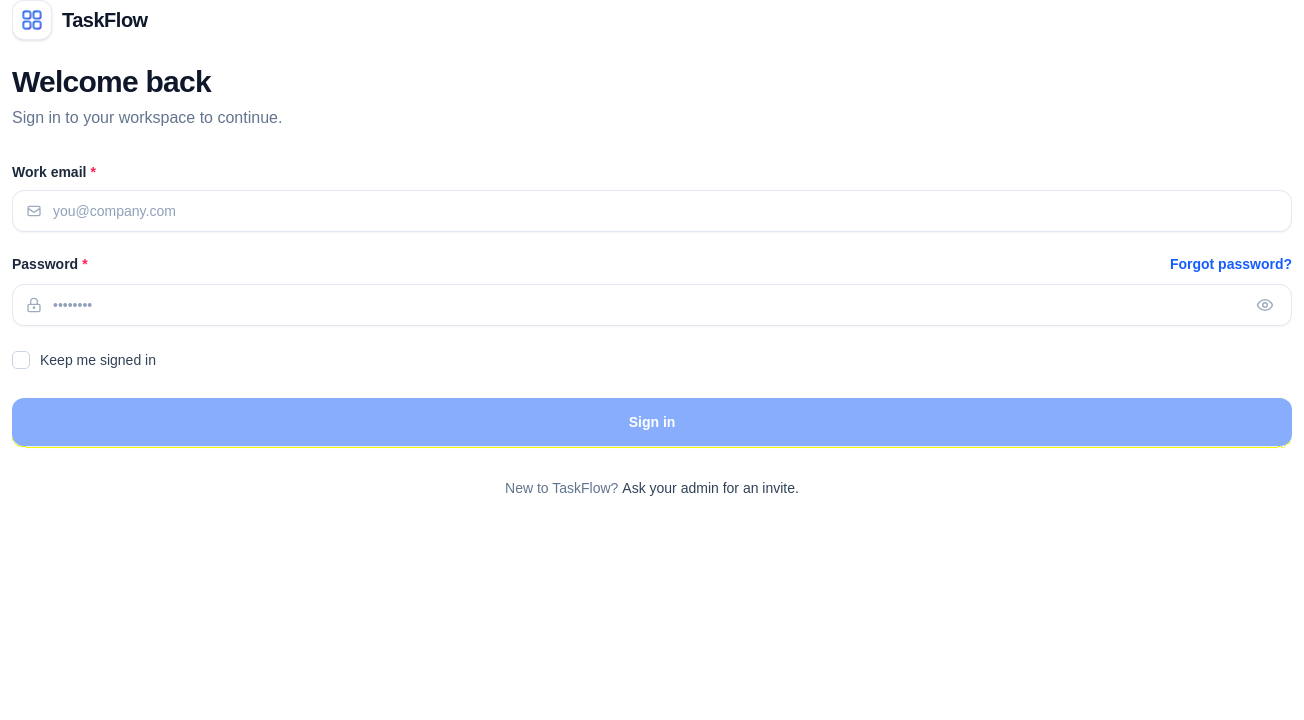
Test: LoginForm Component › shows the default error message when signIn rejects with a non-Error value
Type "user@taskflow.com" into the field with placeholder "you@company.com" at (652, 211), box [12,190,1292,232]
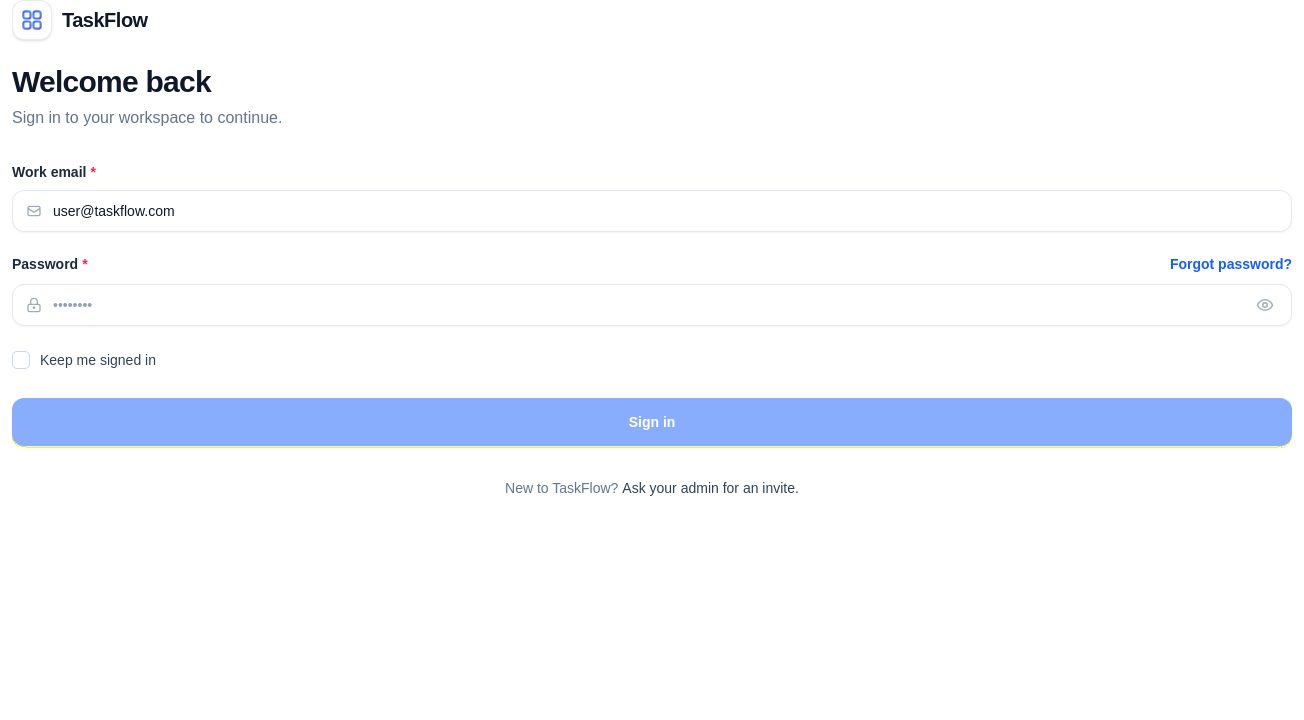
Type "Password123!" into the password field with placeholder "••••••••" at (652, 305), box [12,284,1292,326]
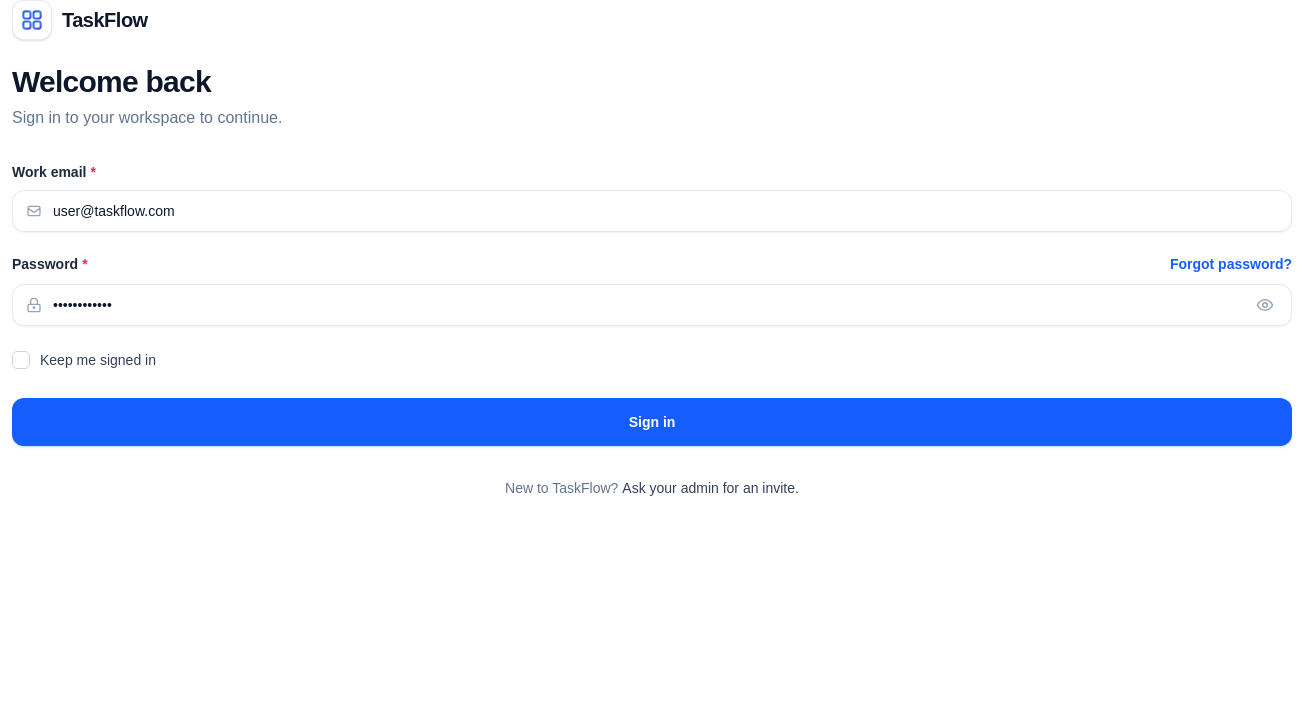
Result: the button "Sign in" is enabled
Click the button "Sign in" at (652, 422), box [12,398,1292,446]
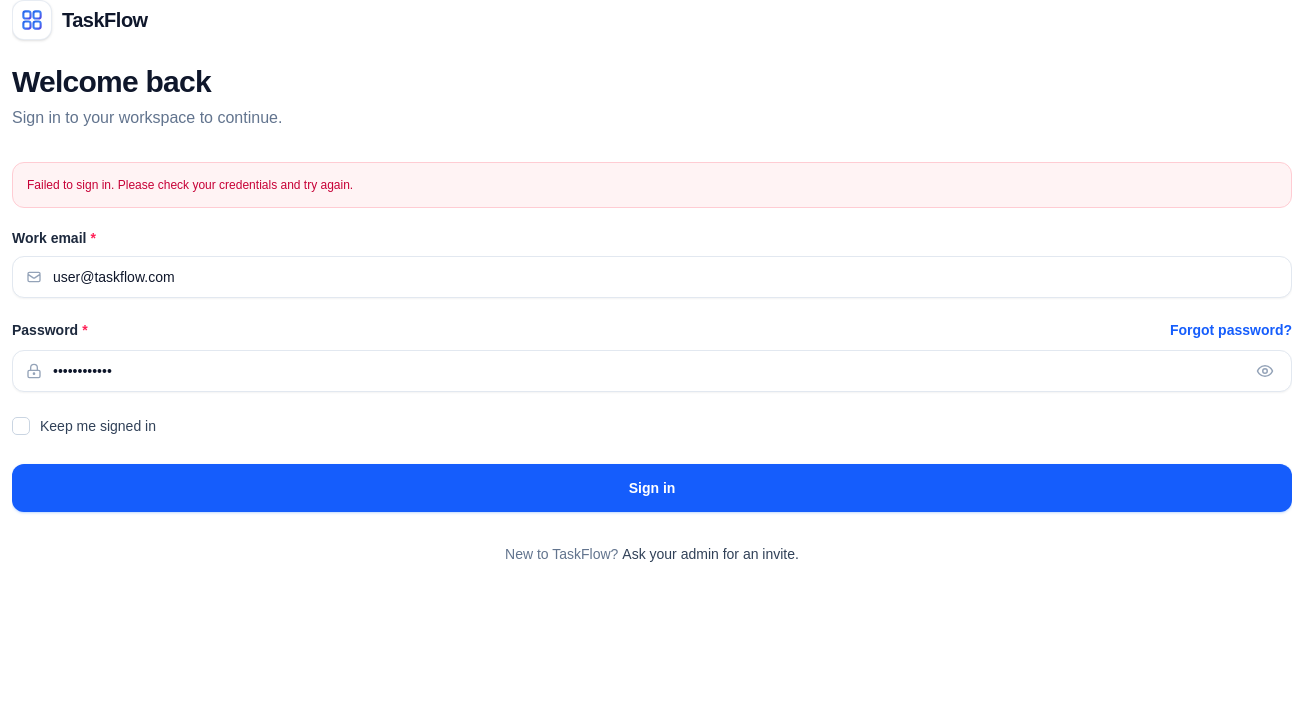
Result: the message reads "Failed to sign in. Please check your credentials and try again." at [27,178,353,192]
